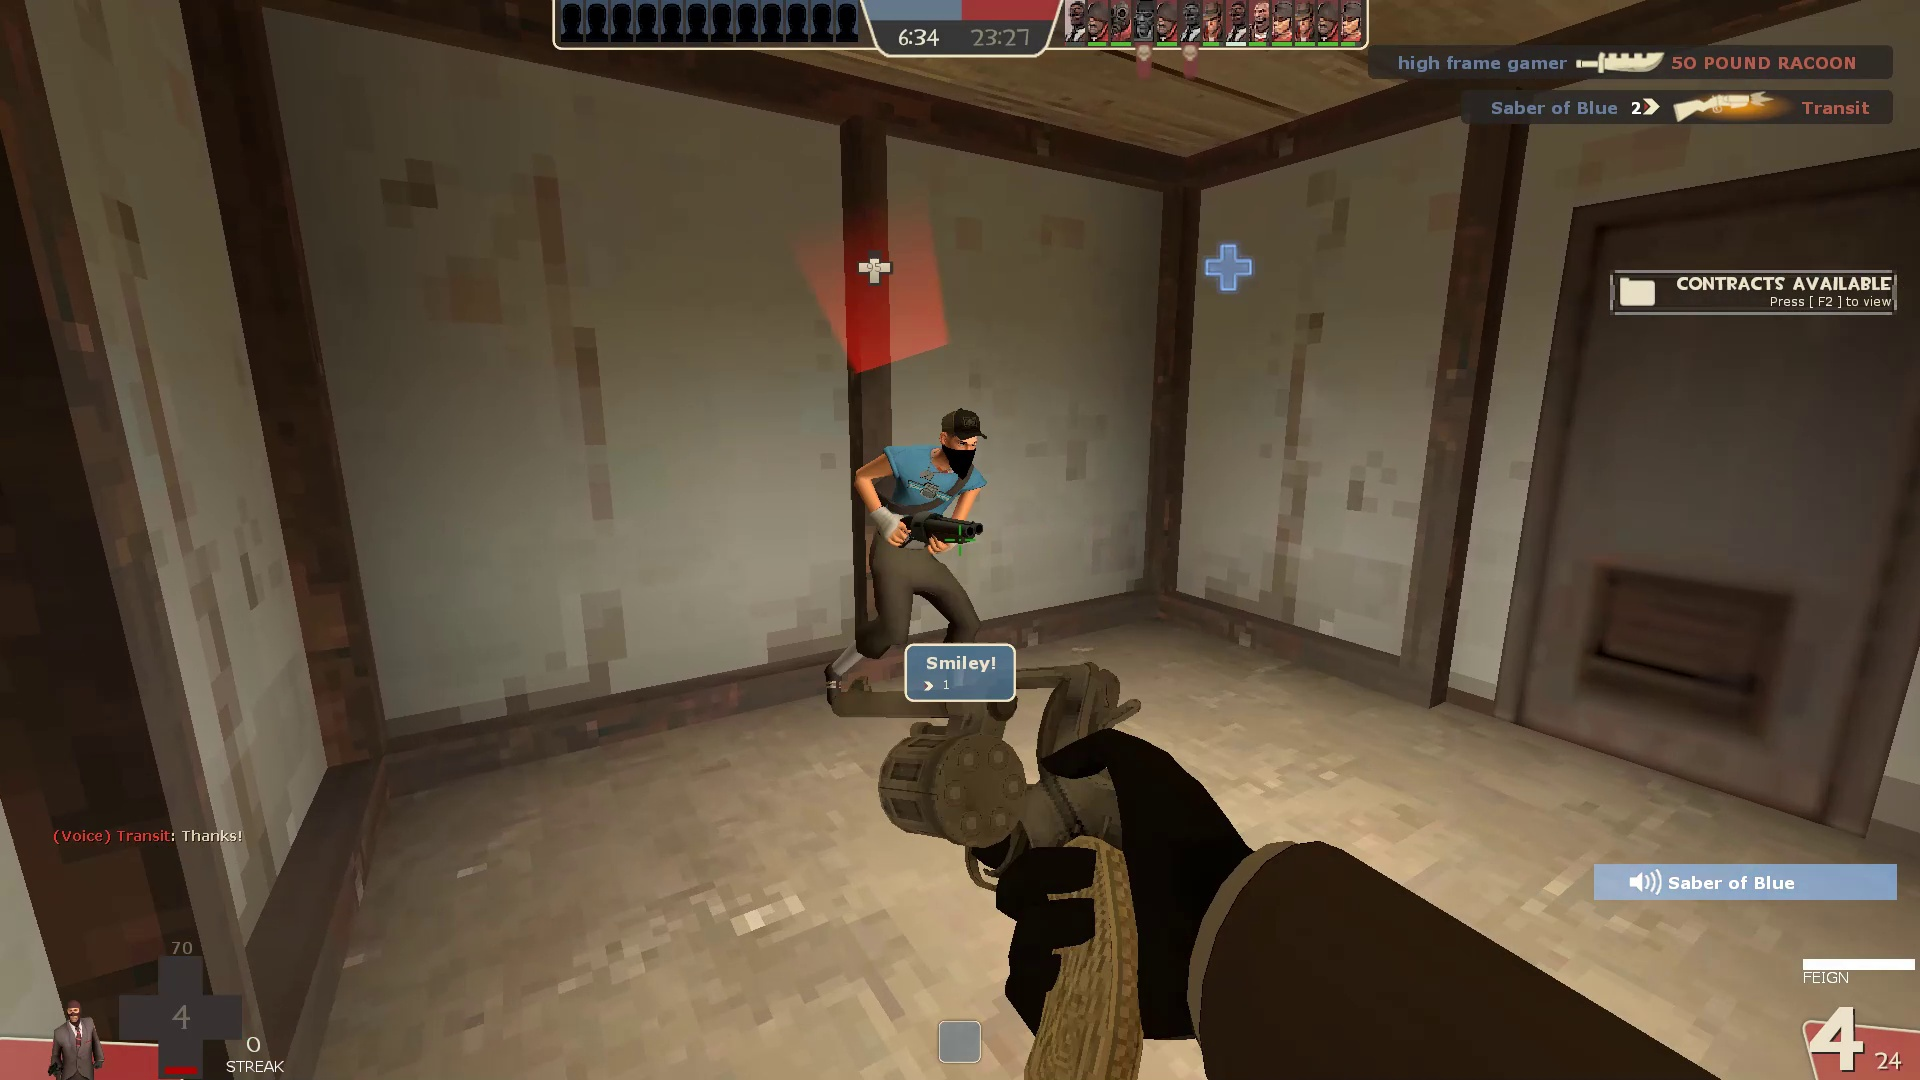blu_scout: (810, 394, 1019, 729)
